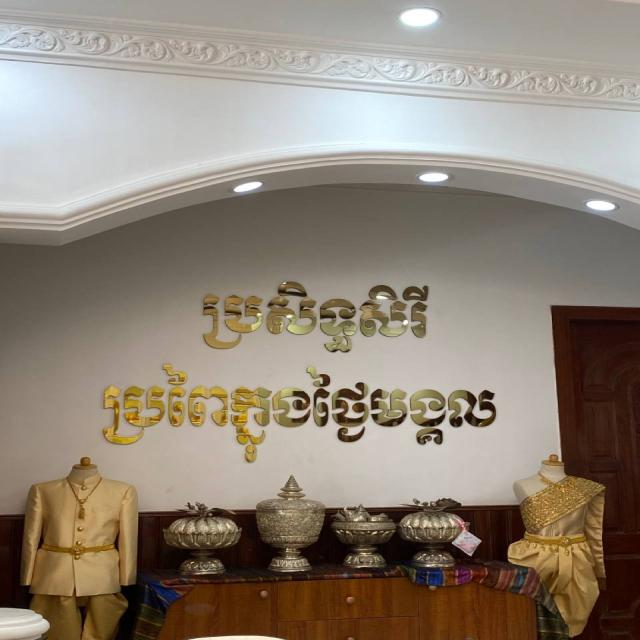Yolov11kh: (97, 360, 514, 470), (193, 274, 445, 356)
